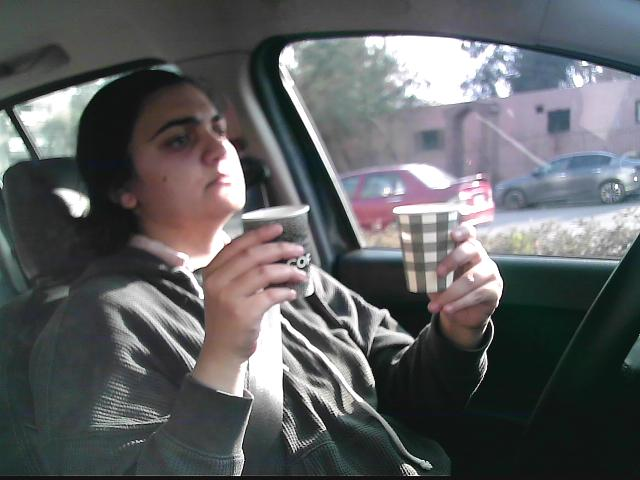Drinking: (236, 202, 319, 302), (390, 201, 462, 298)
